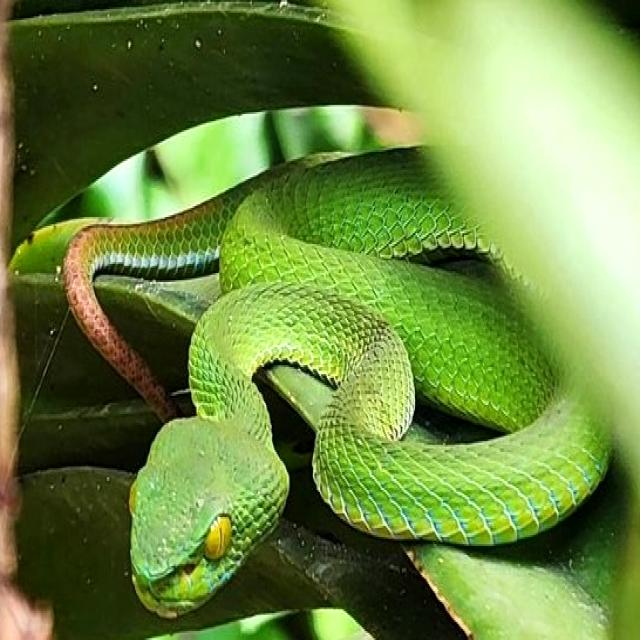Trimeresurus macrops: (64, 151, 610, 616)
